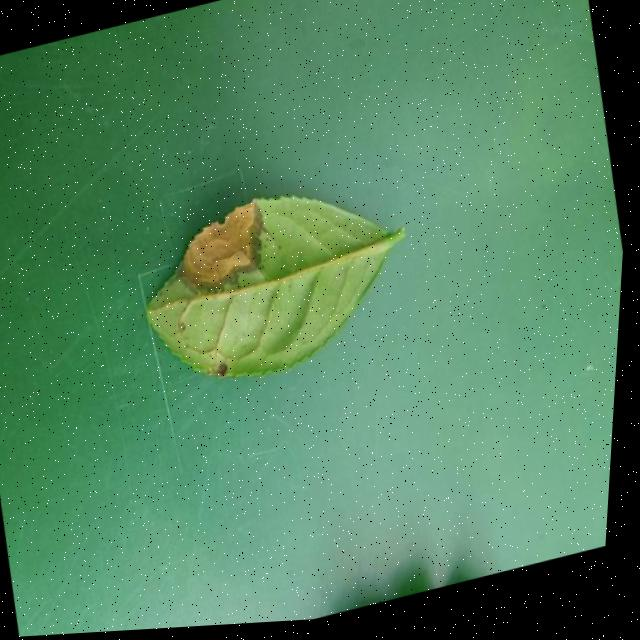Tea cloud leaf blight: (167, 201, 276, 300)
